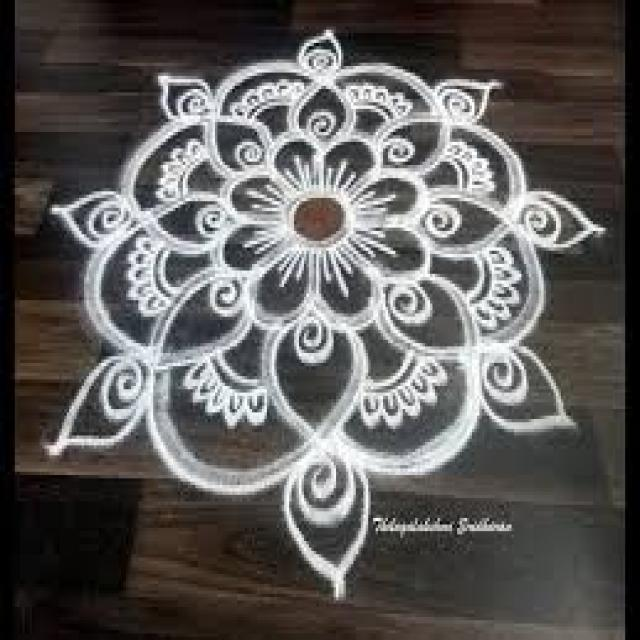rangoli: (47, 28, 608, 600)
